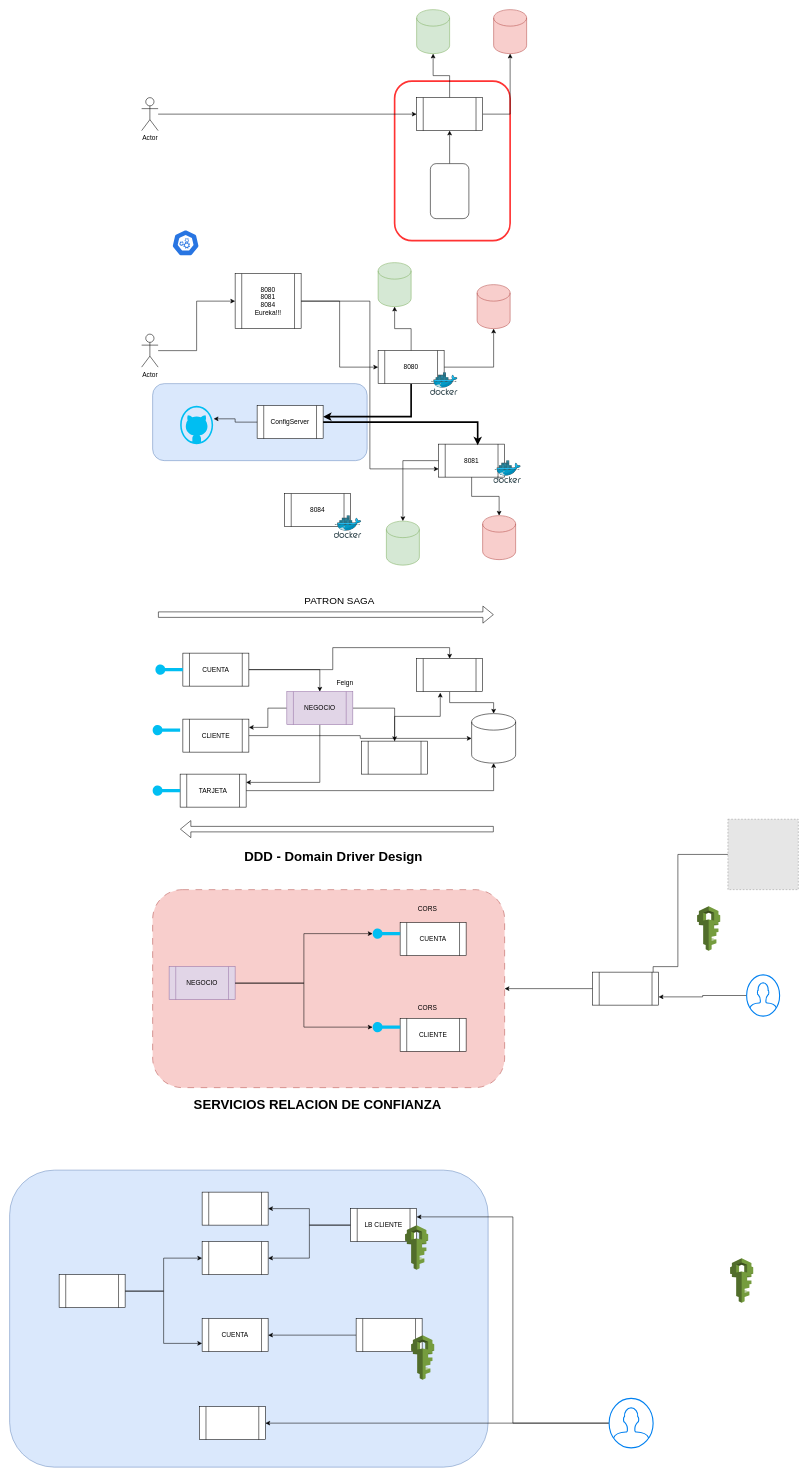
The diagram is 808 pixels wide and 1477 high, and some of its shapes have lost their labels. Grey dashed boxes stand in for pictures. The centre of each missing label's shape, as x and y in pixels:
"CLIENTE 1" belongs at [235,1208].
"CLIENTE 2" belongs at [235,1258].
"CQRS" belongs at [493,738].
"CUENTA PERSISTENCIA" belongs at [449,675].
"GENERACION TOKEN" belongs at [625,988].
"LB CUENTA" belongs at [389,1335].
"ORQUESTADOR" belongs at [92,1291].
"SECURITY" belongs at [232,1423].
